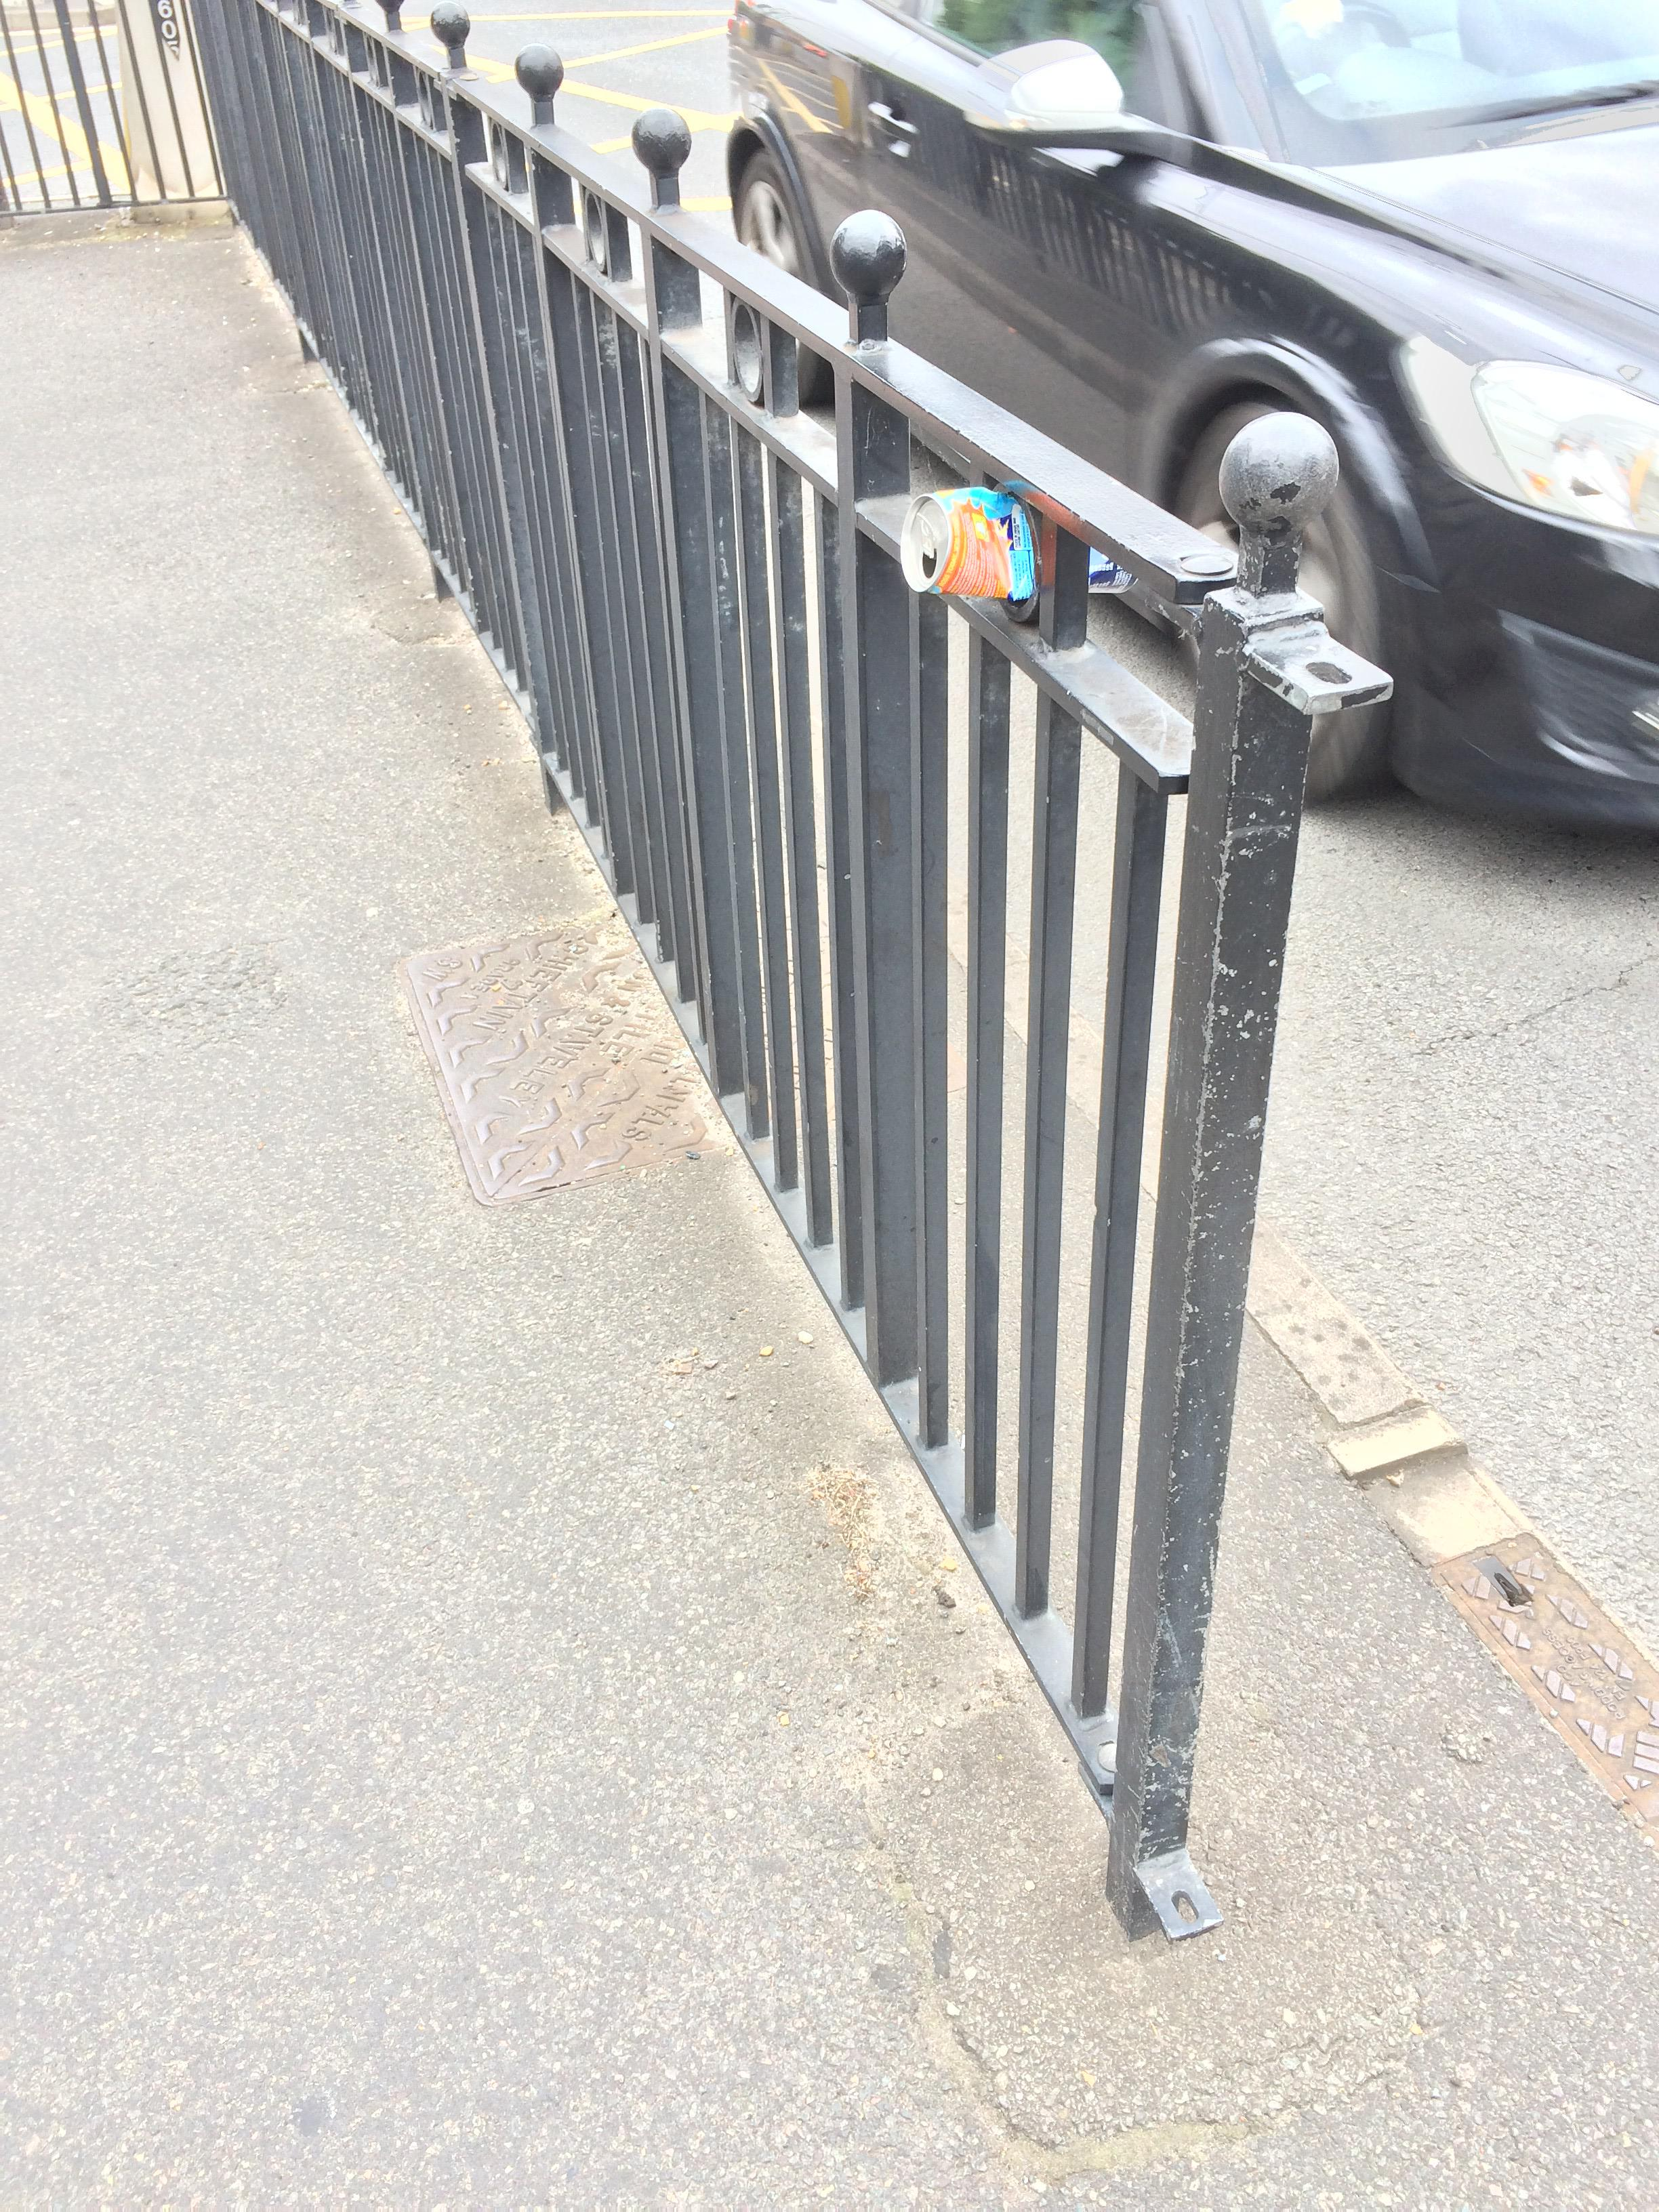Trash: (889, 472, 1145, 601)
